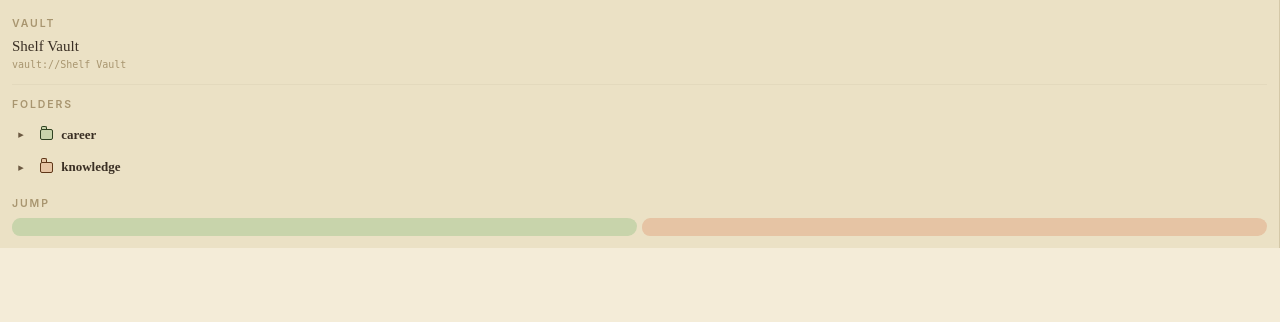
FileShelf › chevron expands the row + persists the choice to ui-store
Step 1. Click the button named "expand knowledge" → (21, 167), box [12, 158, 30, 176]
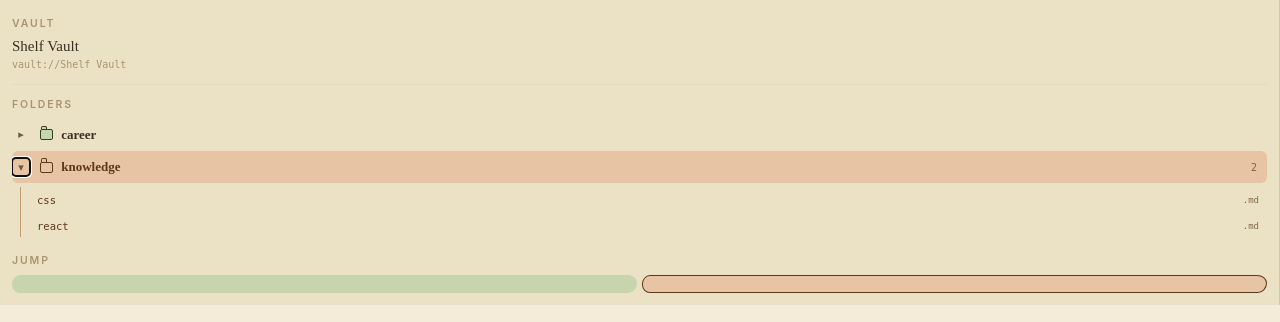
expect the text "knowledge" is shown: met, box [61, 159, 120, 174]
expect the text "react" is shown: met, box [37, 220, 69, 232]
